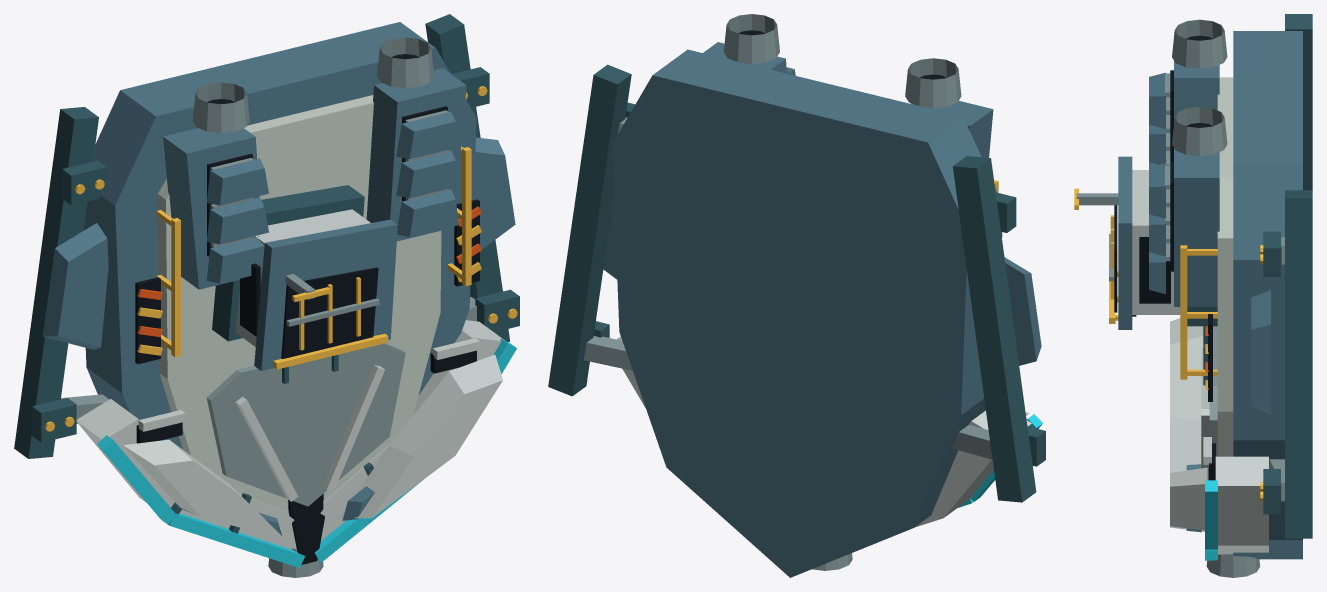
3 views of the same model, side by side, from view 1: azimuth 30°, elevation 25°; view 2: azimuth 150°, elevation 25°; view 3: azimuth 270°, elevation 25° (orthographic). The views are drawn at different scales.
Parts seen in each view (by area): view 1: Model, IceFin_-1, IceFin_1; view 2: Model, IceFin_-1, IceFin_1; view 3: Model, IceFin_1.
Part boxes in pixels (<box>): Model: <box>14,14,519,577</box>; IceFin_-1: <box>42,223,108,349</box>; IceFin_1: <box>473,137,515,249</box>; Model: <box>548,14,1045,577</box>; IceFin_-1: <box>1004,257,1041,365</box>; IceFin_1: <box>603,195,617,279</box>; Model: <box>1074,14,1312,577</box>; IceFin_1: <box>1251,290,1270,413</box>.
Size of the model in its own units: 2.72 by 2.74 by 1.2.
